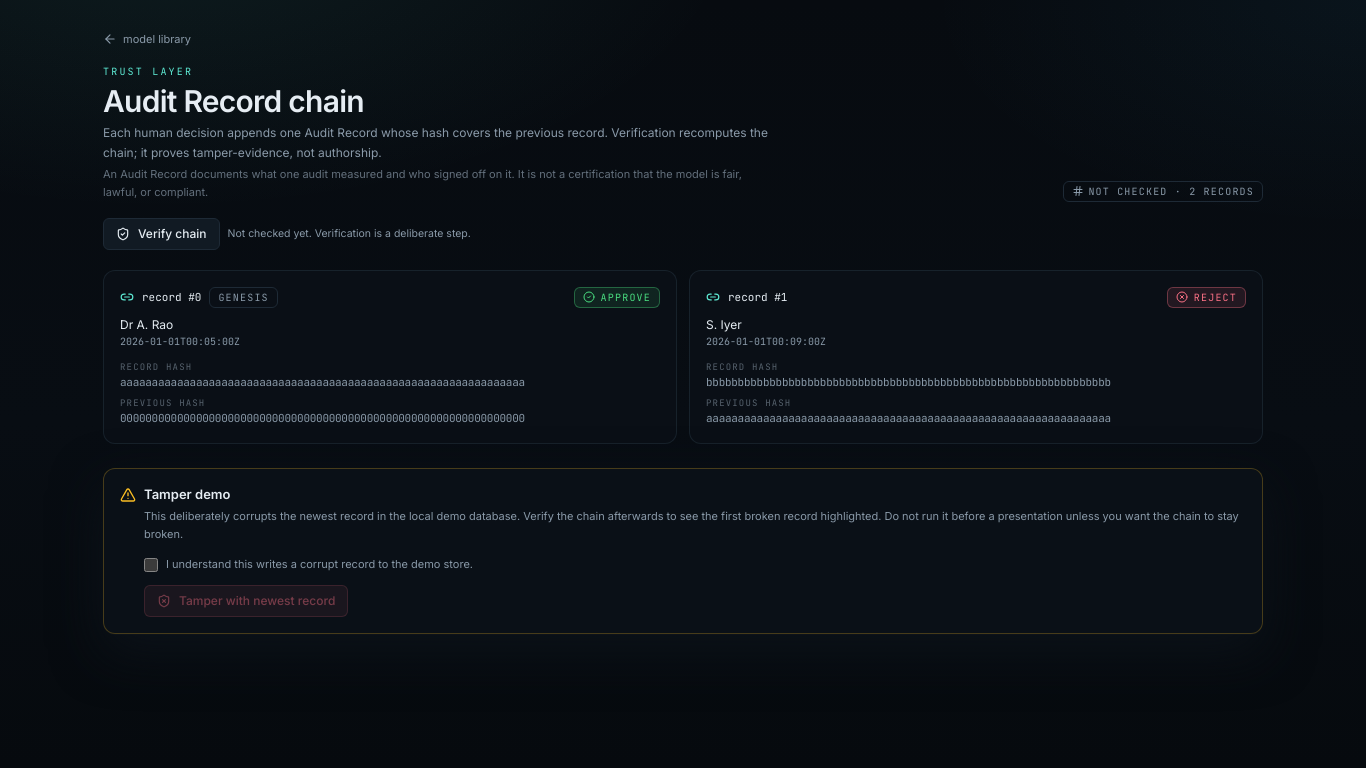
Scenario: Certificates page › shows the chain and reports a verified recomputation
The image size is (1366, 768).
Expected: the text "Dr A. Rao" is shown, [120,317,173,332]
Expected: the text "S. Iyer" is shown, [706,317,742,332]
Click the button "Verify chain" at coordinates (161, 234), box [103,218,220,250]
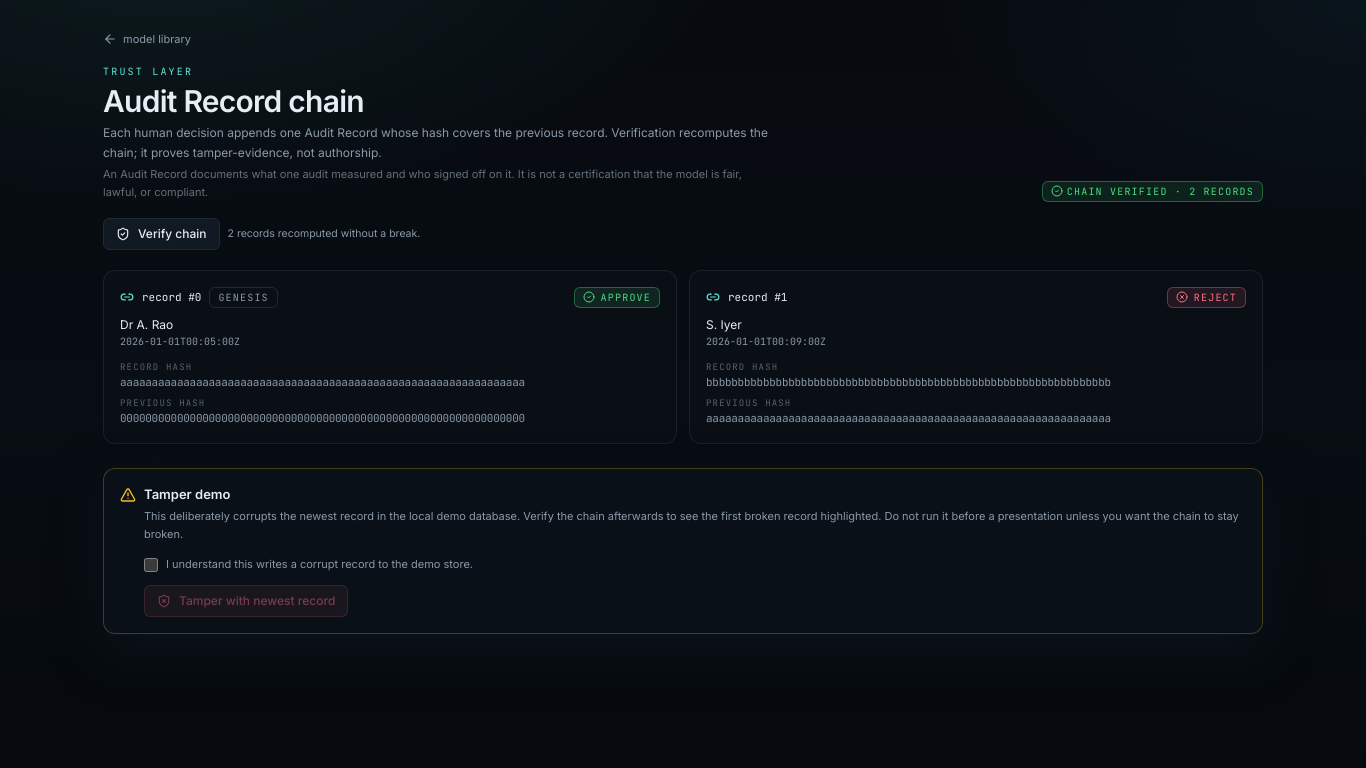
Expected: the text "chain verified · 2 records" is shown, [1042,181,1263,202]
Expected: the text "2 records recomputed without a break." is shown, [228,226,420,242]
